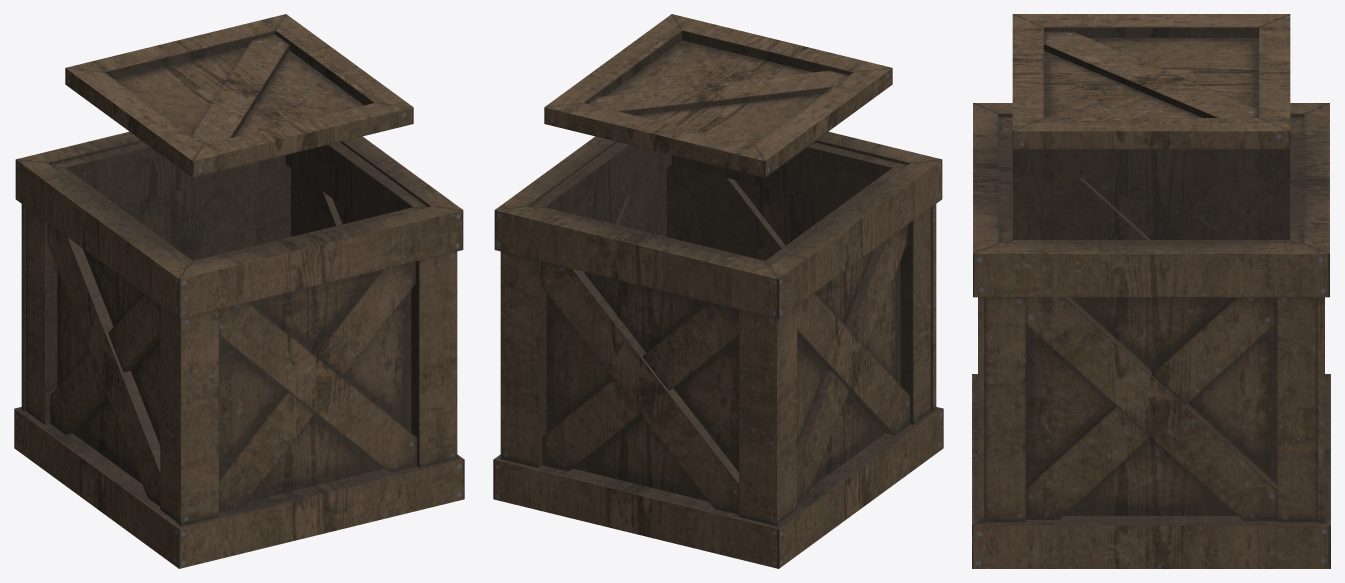
File: Box With Texture LFD V1.fbx
3 views of the same model, side by side, from view 1: azimuth 30°, elevation 25°; view 2: azimuth 150°, elevation 25°; view 3: azimuth 270°, elevation 25° (orthographic). The views are drawn at different scales.
Visible parts, largest first — view 1: CargoBox V4 Main _low, CargoBox V4 Top _low; view 2: CargoBox V4 Main _low, CargoBox V4 Top _low; view 3: CargoBox V4 Main _low, CargoBox V4 Top _low.
Boxes of the visible parts, x1,y1,x2,y2 form: CargoBox V4 Main _low: (14, 131, 464, 568); CargoBox V4 Top _low: (65, 14, 413, 177); CargoBox V4 Main _low: (493, 131, 943, 568); CargoBox V4 Top _low: (544, 14, 892, 177); CargoBox V4 Main _low: (972, 103, 1330, 568); CargoBox V4 Top _low: (1012, 14, 1290, 149).
Bounding box in the file's own units: 207 × 267 × 207.
1 material, 1 textured.
